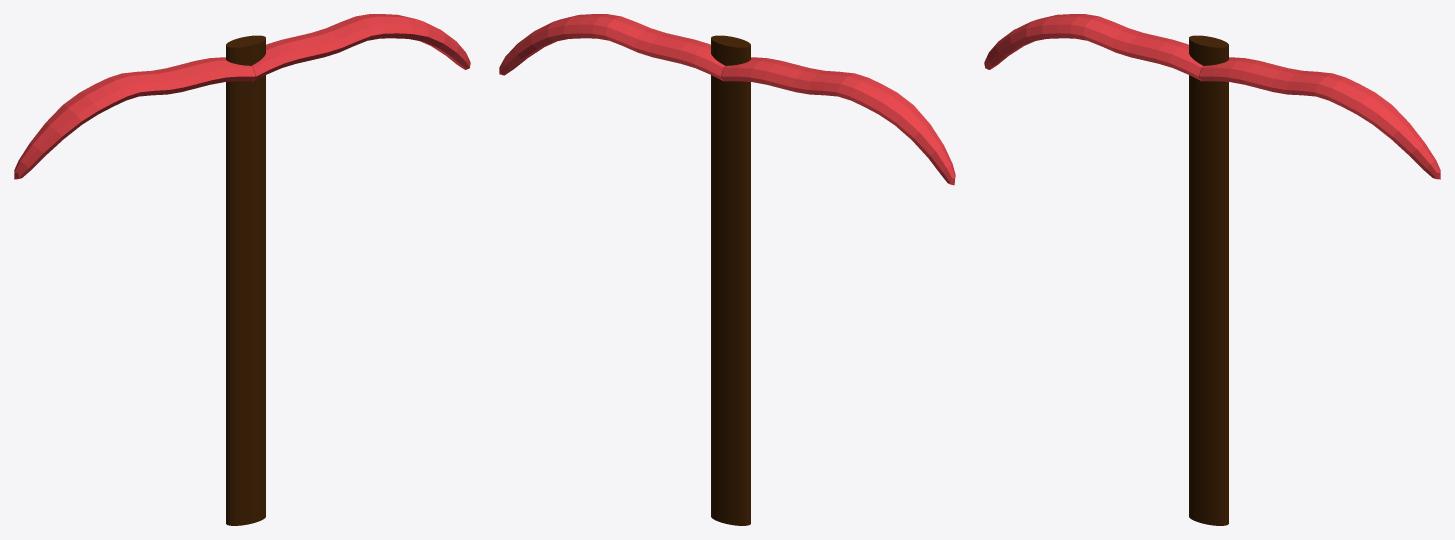
File: pickaxe.fbx
3 renders of one model, left to right at view 1: azimuth 30°, elevation 25°; view 2: azimuth 150°, elevation 25°; view 3: azimuth 330°, elevation 25°, orthographic.
Visible parts, largest first — view 1: Cylinder, Cube; view 2: Cylinder, Cube; view 3: Cylinder, Cube.
Part boxes in pixels (left/top/right/bottom): Cylinder: left=226, top=35, right=265, bottom=525; Cube: left=14, top=14, right=470, bottom=179; Cylinder: left=711, top=35, right=750, bottom=525; Cube: left=499, top=14, right=955, bottom=185; Cylinder: left=1189, top=35, right=1228, bottom=525; Cube: left=984, top=14, right=1440, bottom=179.
Bounding box in the file's own units: 134 × 134 × 10.07.
